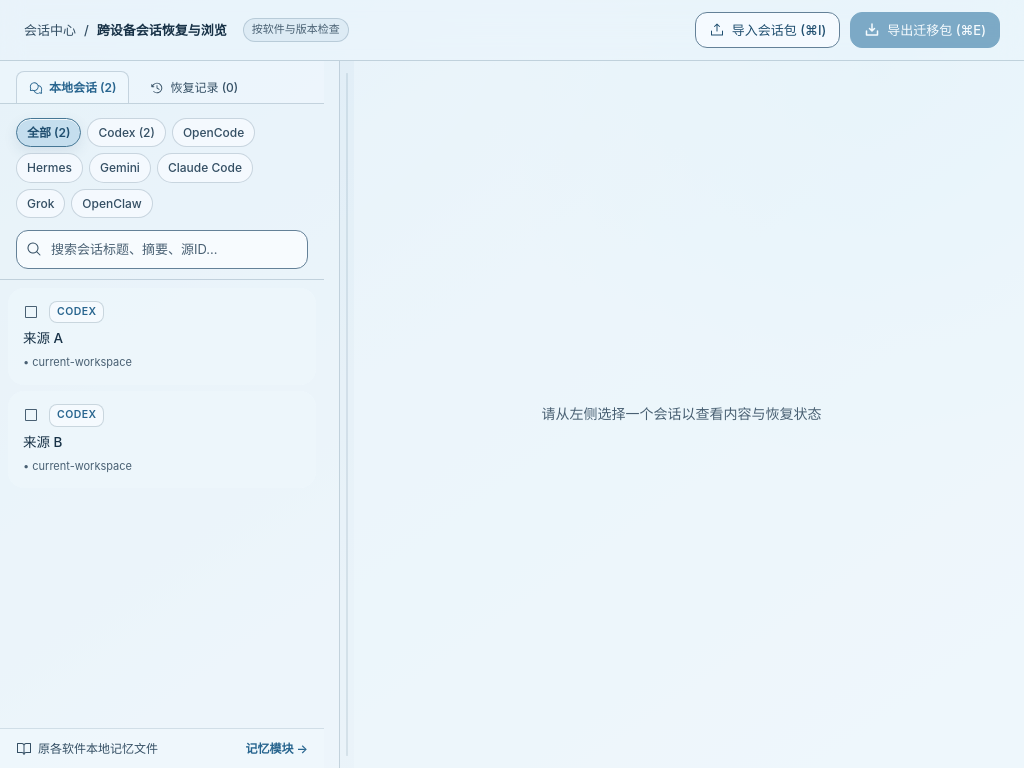
Test case: session migration page batch export behavior › blocks the whole batch and names the session whose preview fails
This screenshot has width=1024, height=768.
Expected: the text "来源 A" is shown, [23,330,63,346]
Click the 1st button named "勾选以导出" at (31, 312), box [23,304,39,320]
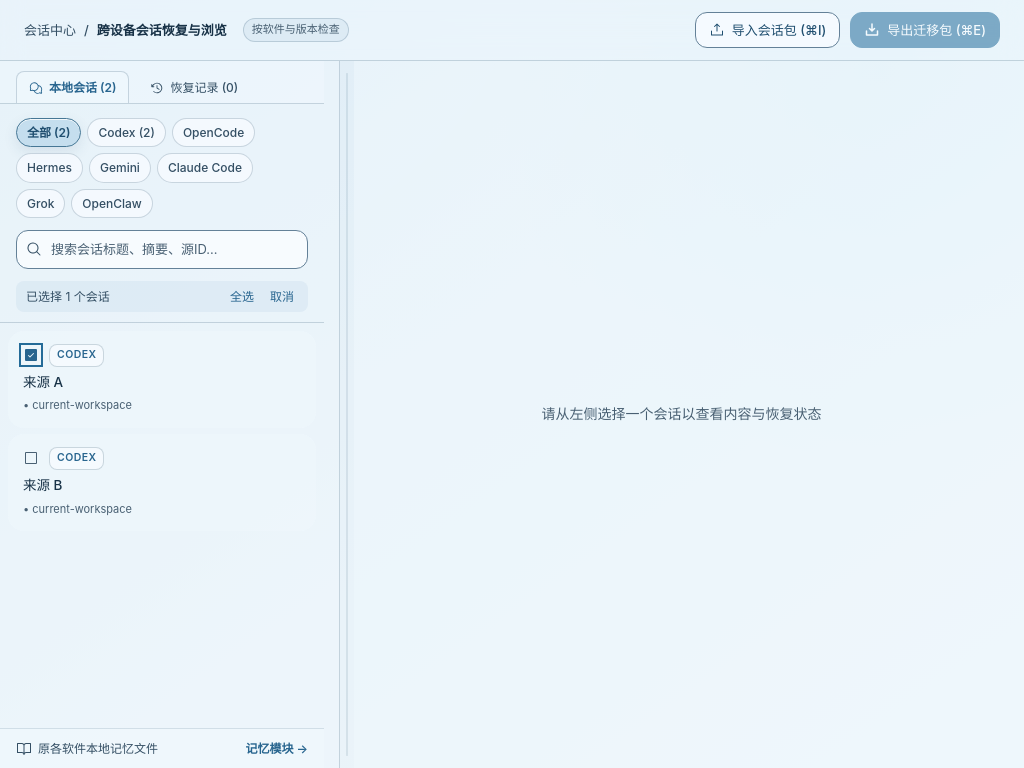
Click the button named "勾选以导出" at (31, 458), box [23,450,39,466]
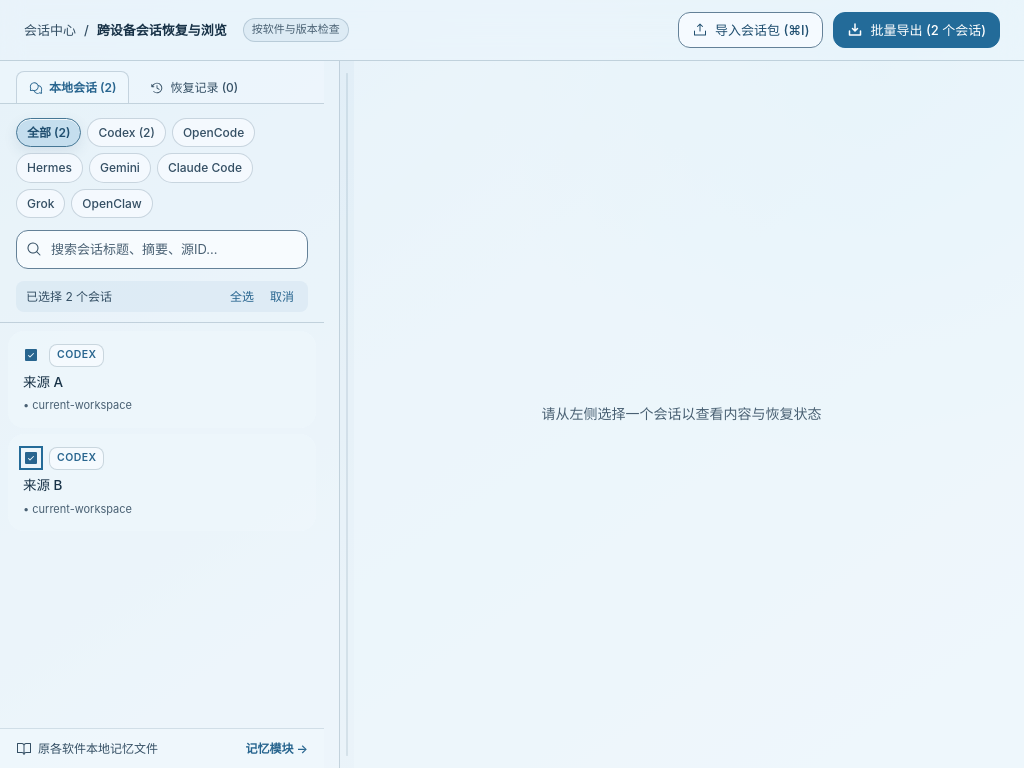
Click the button "批量导出 (2 个会话)" at (917, 30), box [834,12,1000,48]
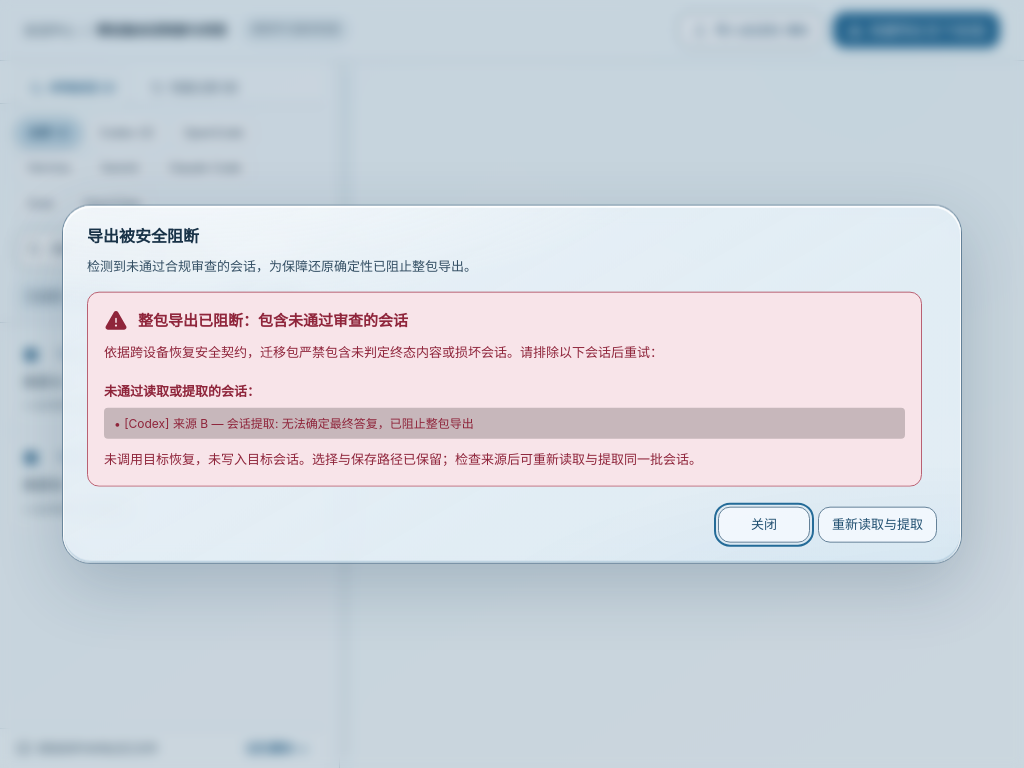
Expected: the text "• [Codex] 来源 B — 会话提取: 无法确定最终答复，已阻止整包导出" is shown, [104,407,905,439]
